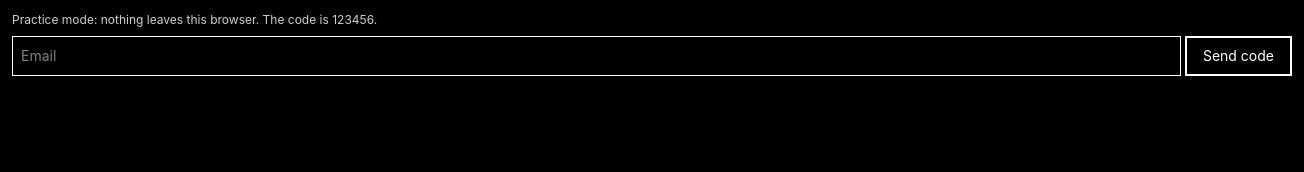
the account panel › sign out keeps local progress and leaves the server's copy
The image size is (1304, 172).
Type "ren@example.com" into the field labelled "Email" at coordinates (596, 56), box [12,36,1181,76]
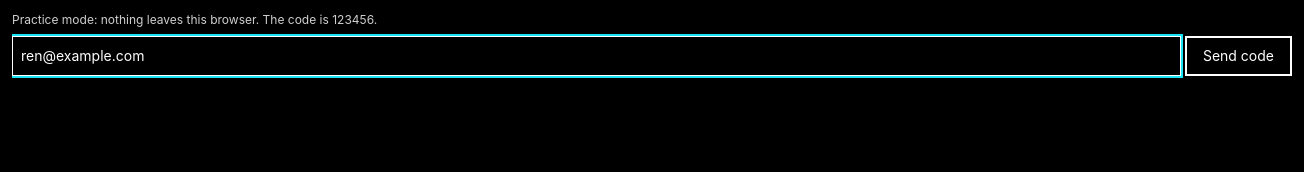
Click the button "Send code" at coordinates (1238, 56), box [1185,36,1292,76]
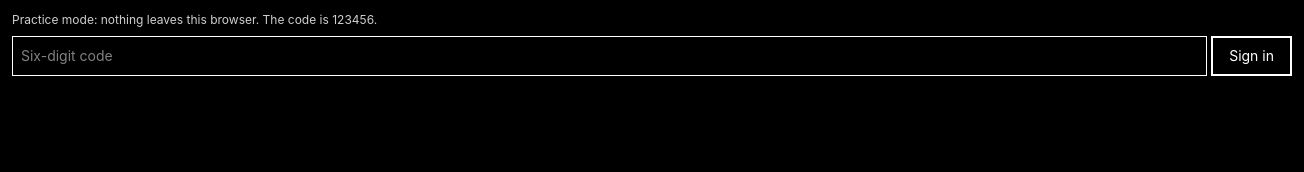
Type "123456" into the field labelled "Six-digit code" at coordinates (610, 56), box [12,36,1207,76]
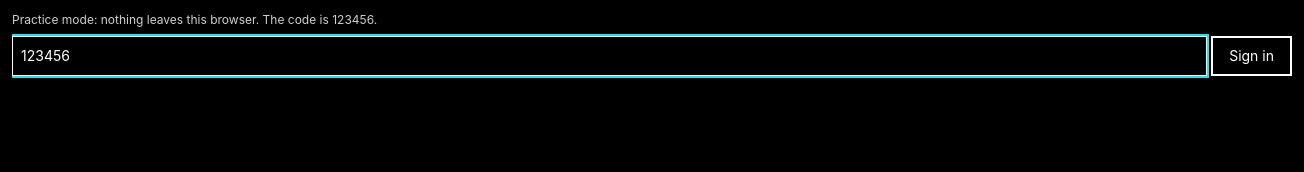
Click the button "Sign in" at coordinates (1252, 56), box [1211,36,1292,76]
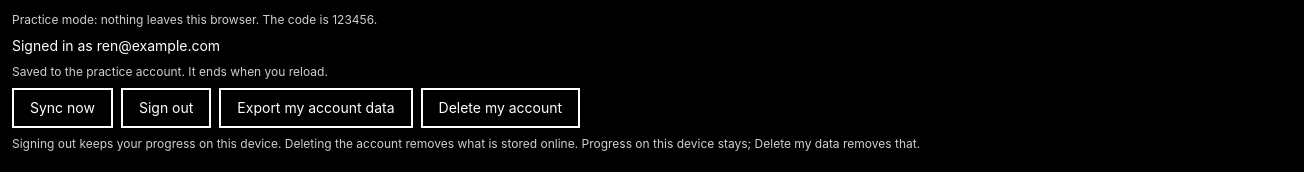
Check: the text "Signed in as ren@example.com" is shown, box [12,37,220,54]
Click the button "Sign out" at coordinates (166, 108), box [121,88,211,128]
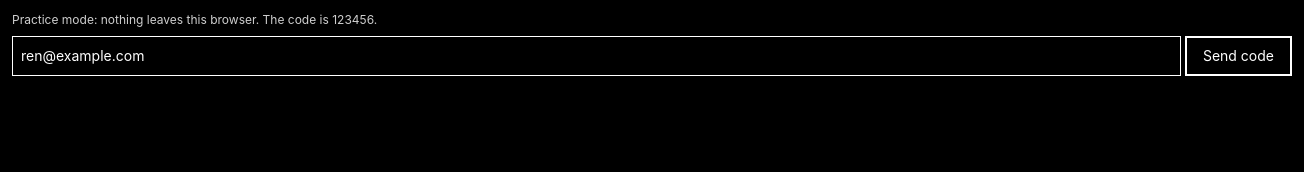
Check: the field named "Email" is shown, box [12,36,1181,76]
